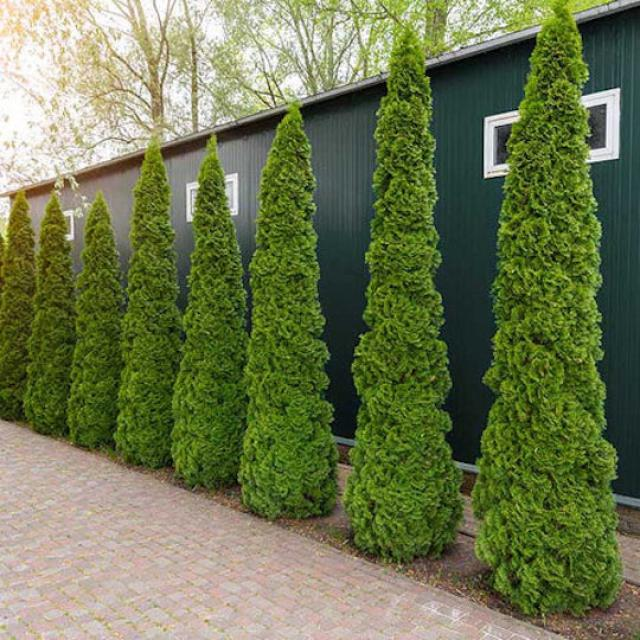foliage: (474, 4, 619, 614), (345, 30, 461, 561), (239, 113, 338, 519), (171, 136, 247, 488), (114, 140, 181, 468), (67, 194, 122, 448), (24, 193, 76, 436), (0, 191, 36, 419)
